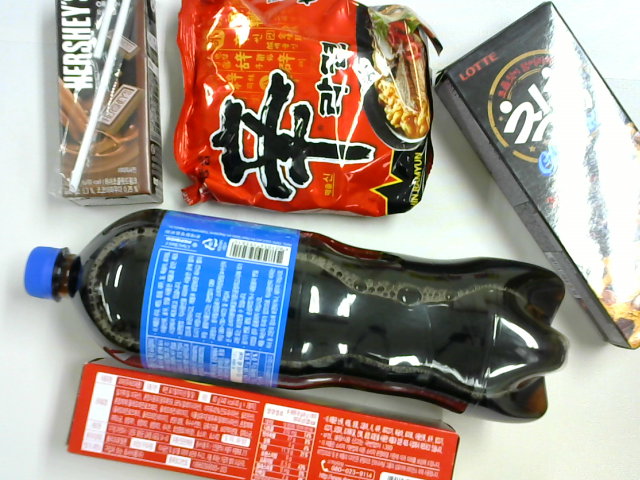Chicchok_Original_2400: (439, 3, 640, 359)
Hush_Choco_Drink: (37, 1, 178, 207)
Pepsi_Cola_1.5L: (48, 219, 584, 397)
Ritz_Cracker: (54, 369, 473, 480)
Sinramen: (176, 4, 437, 208)
